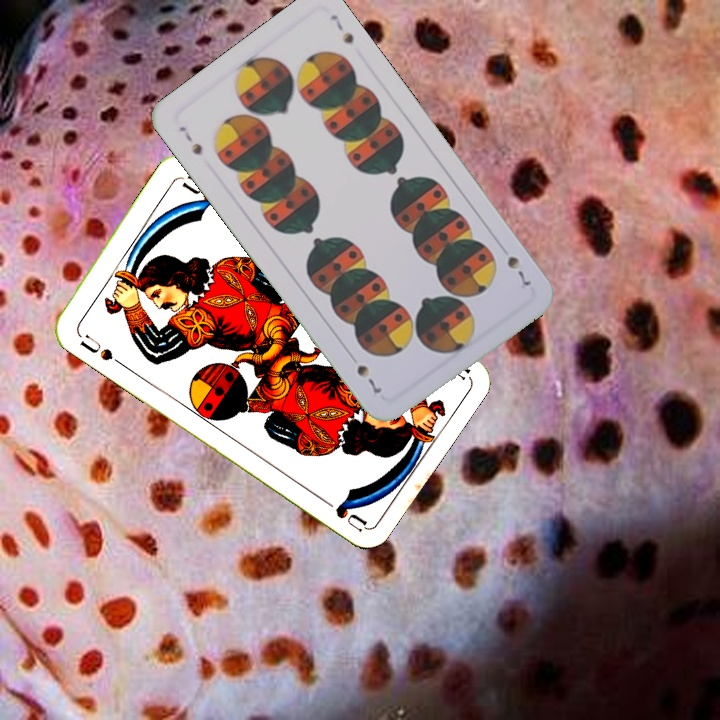S7: (502, 252, 534, 289), (175, 122, 205, 158)
SU: (76, 330, 125, 368)
